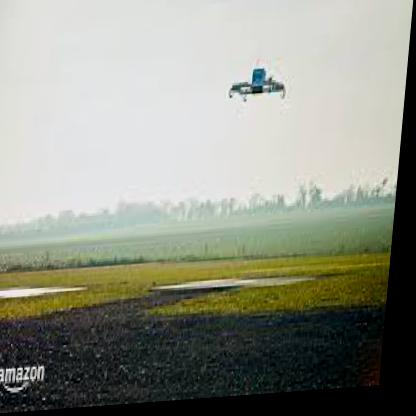UAS: (230, 72, 290, 109)
